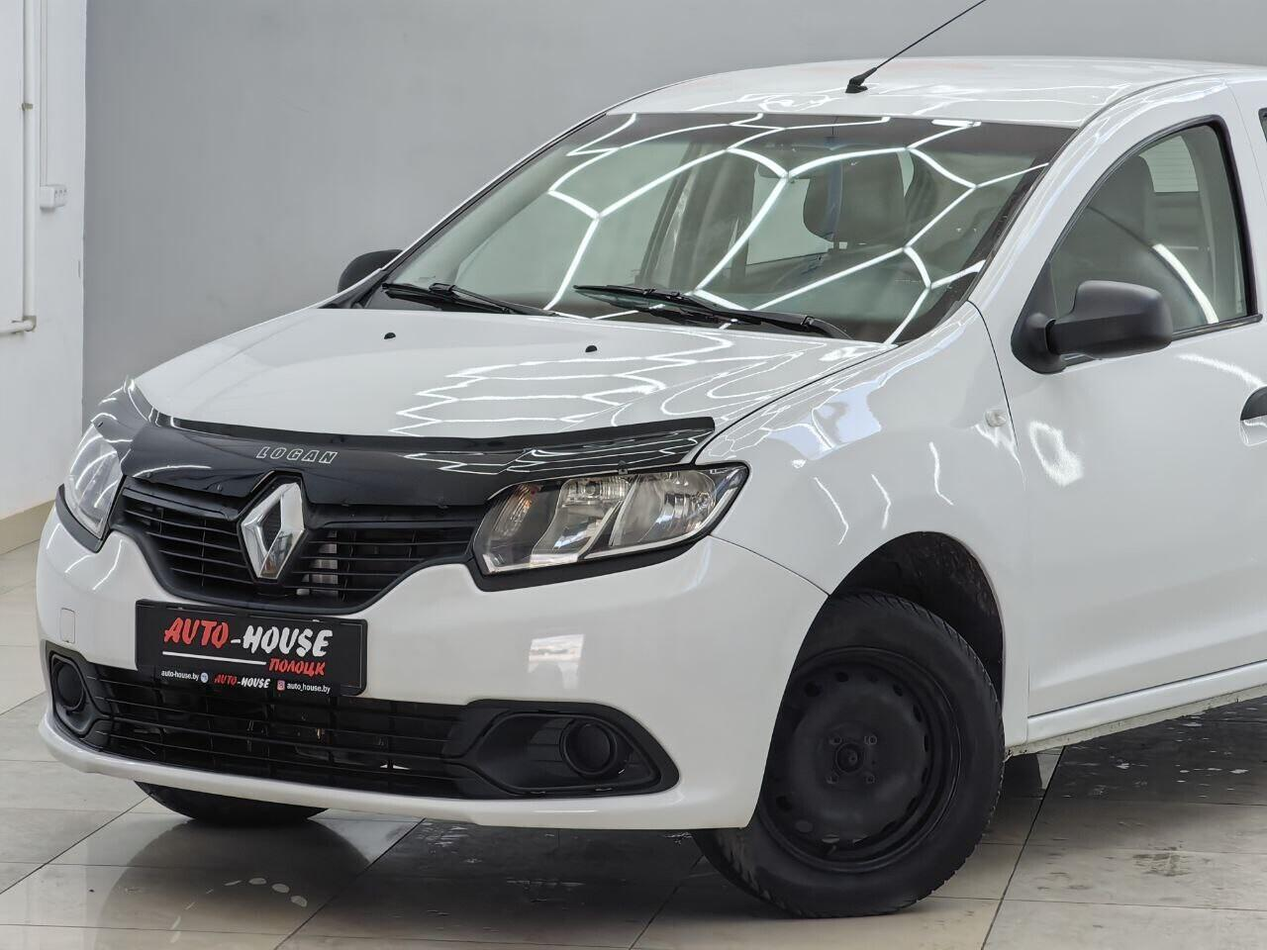Logan_2013-2018: (18, 49, 1267, 903)
